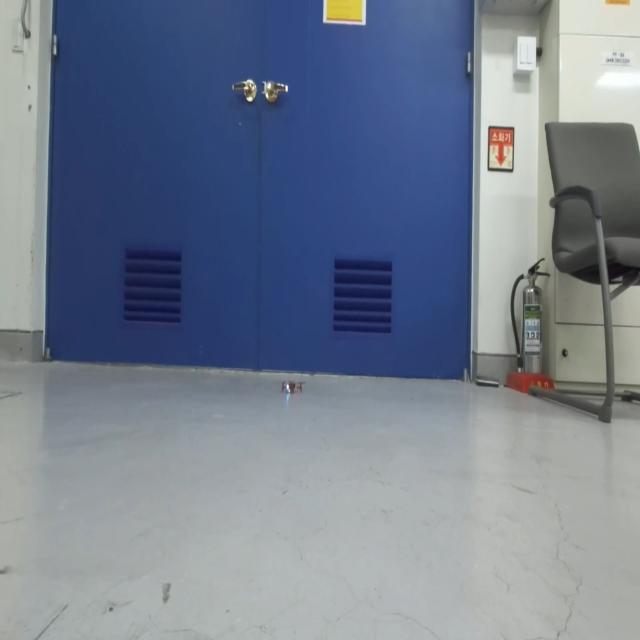crazyflie: (278, 373, 304, 401)
